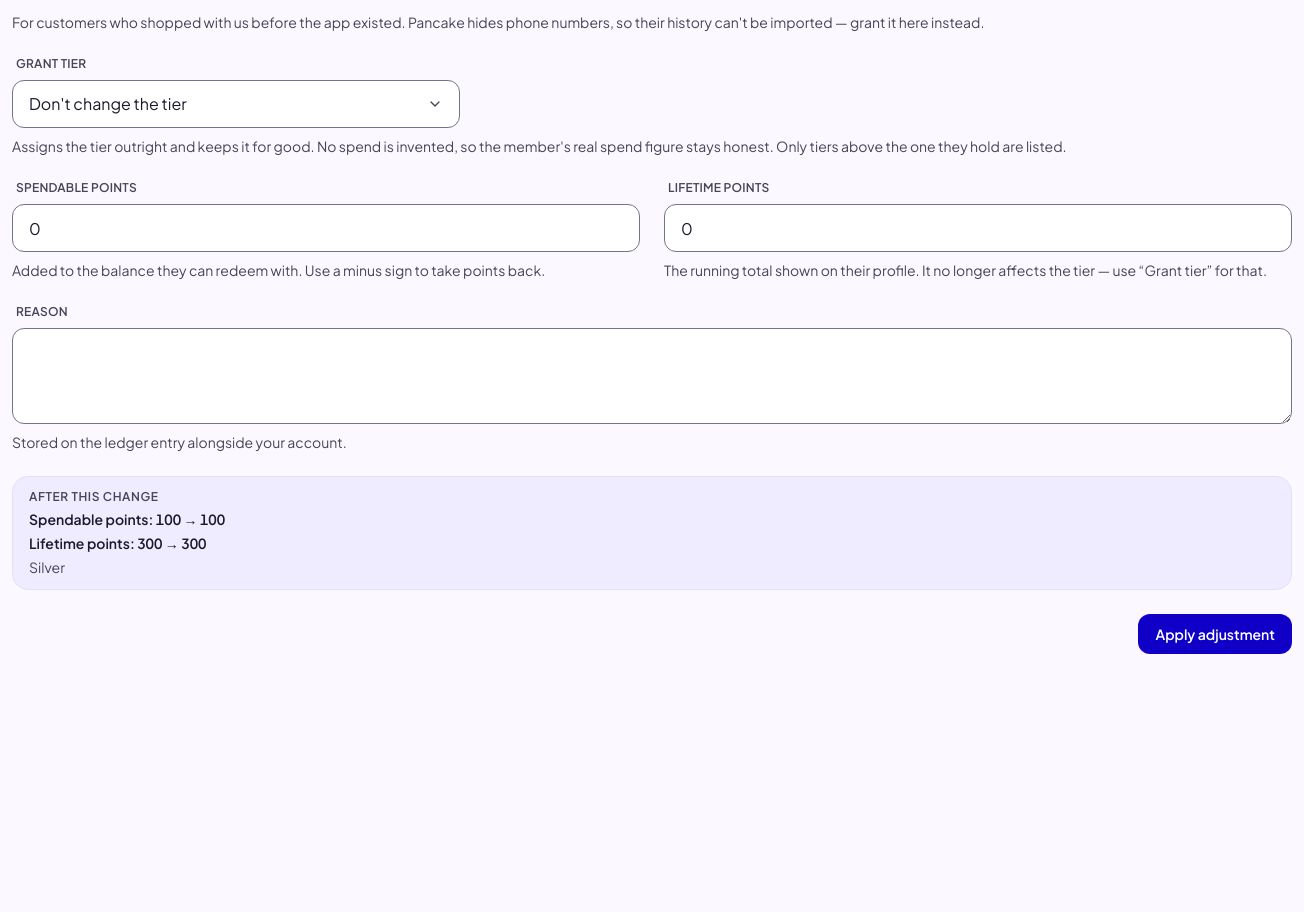
Test: AdjustForm › requires a reason
Replace the text in the number field labelled "Spendable points" with "5" at (326,228), box x1=12 y1=204 x2=640 y2=252
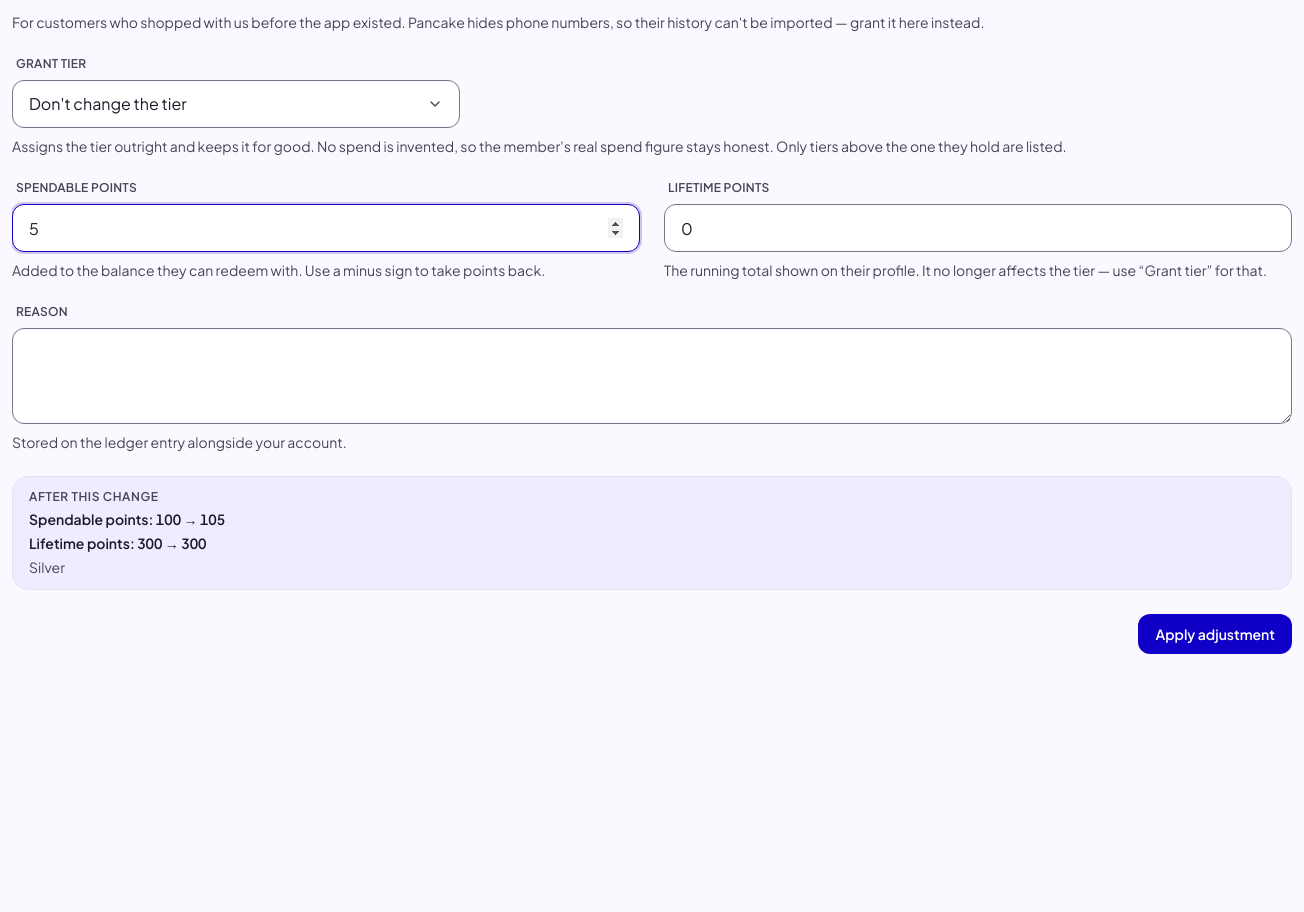
Click the button "Apply adjustment" at (1215,634), box x1=1138 y1=614 x2=1292 y2=654
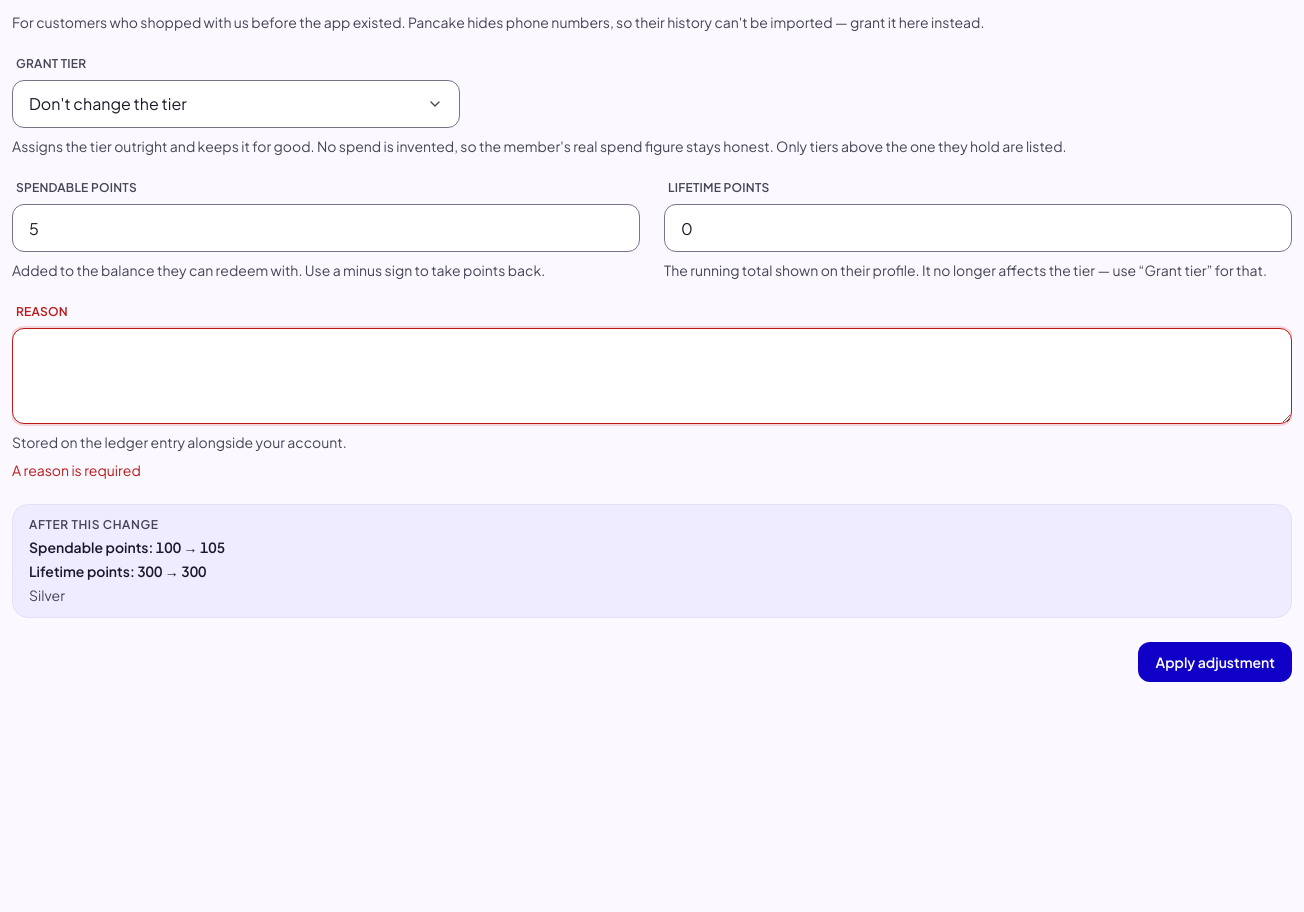
Result: the text "A reason is required" is shown at x1=12 y1=461 x2=141 y2=479
